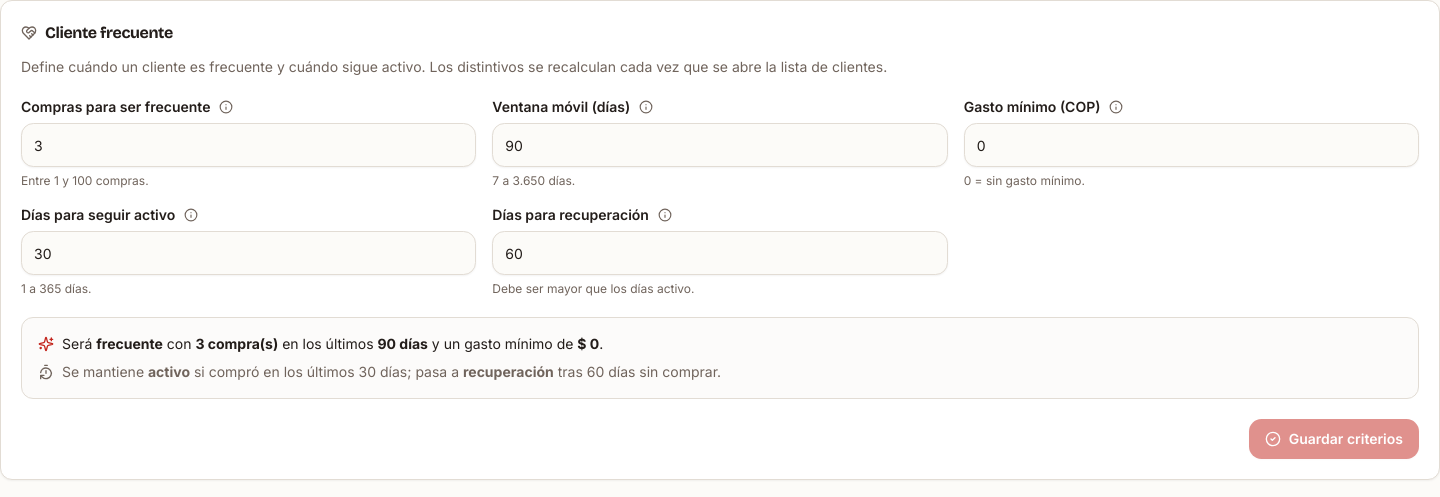
Scenario: FrequentCriteriaCard › rechaza recuperación menor o igual que los días activo
Replace the text in the field labelled "Días para recuperación" with "20" at (720,253), box [492,231,948,275]
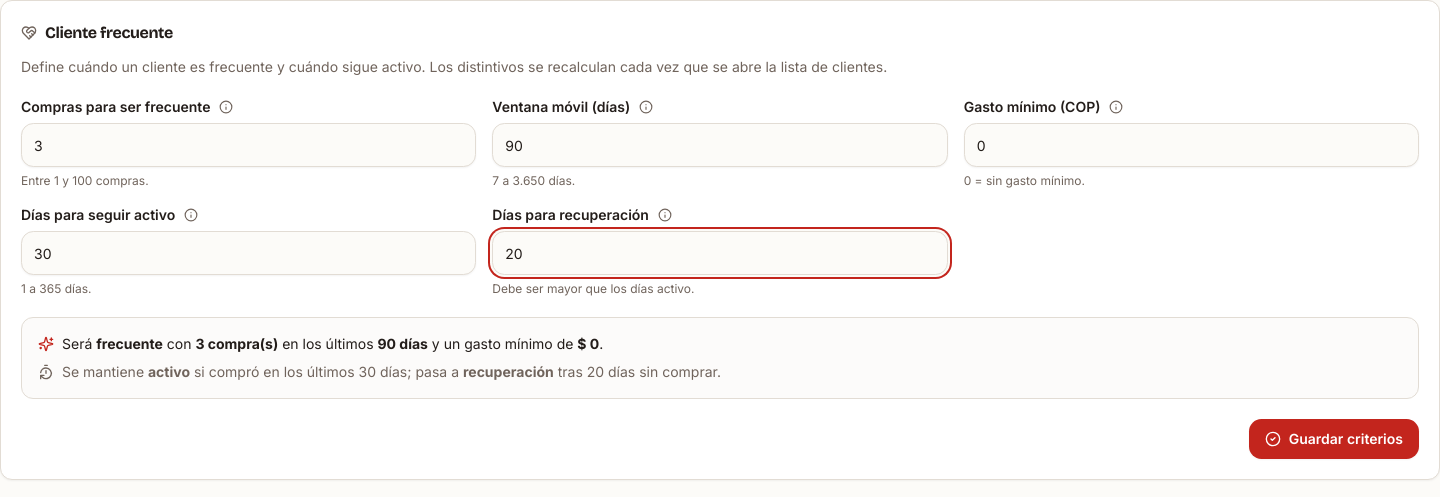
Click the button "Guardar criterios" at (1334,439), box [1249,419,1419,459]
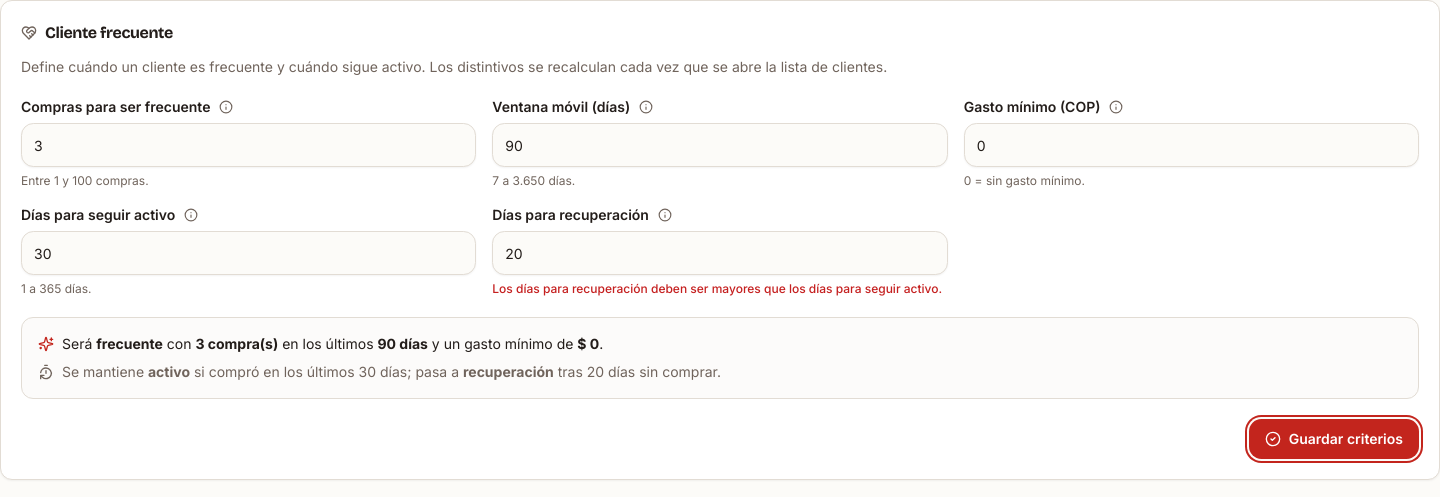
Expected: the text "Los días para recuperación deben ser mayores que los días para seguir activo." is shown, [492,281,948,297]
